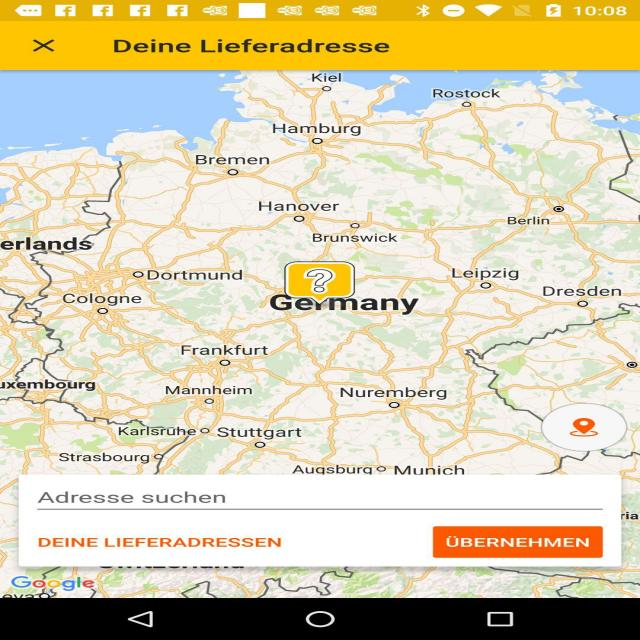button: (29, 529, 302, 556), (432, 524, 601, 558), (17, 36, 67, 56)
icon: (544, 406, 626, 450), (7, 28, 84, 66), (284, 264, 366, 299)
image: (2, 70, 639, 601)
text: (103, 31, 421, 63), (34, 485, 262, 512)
